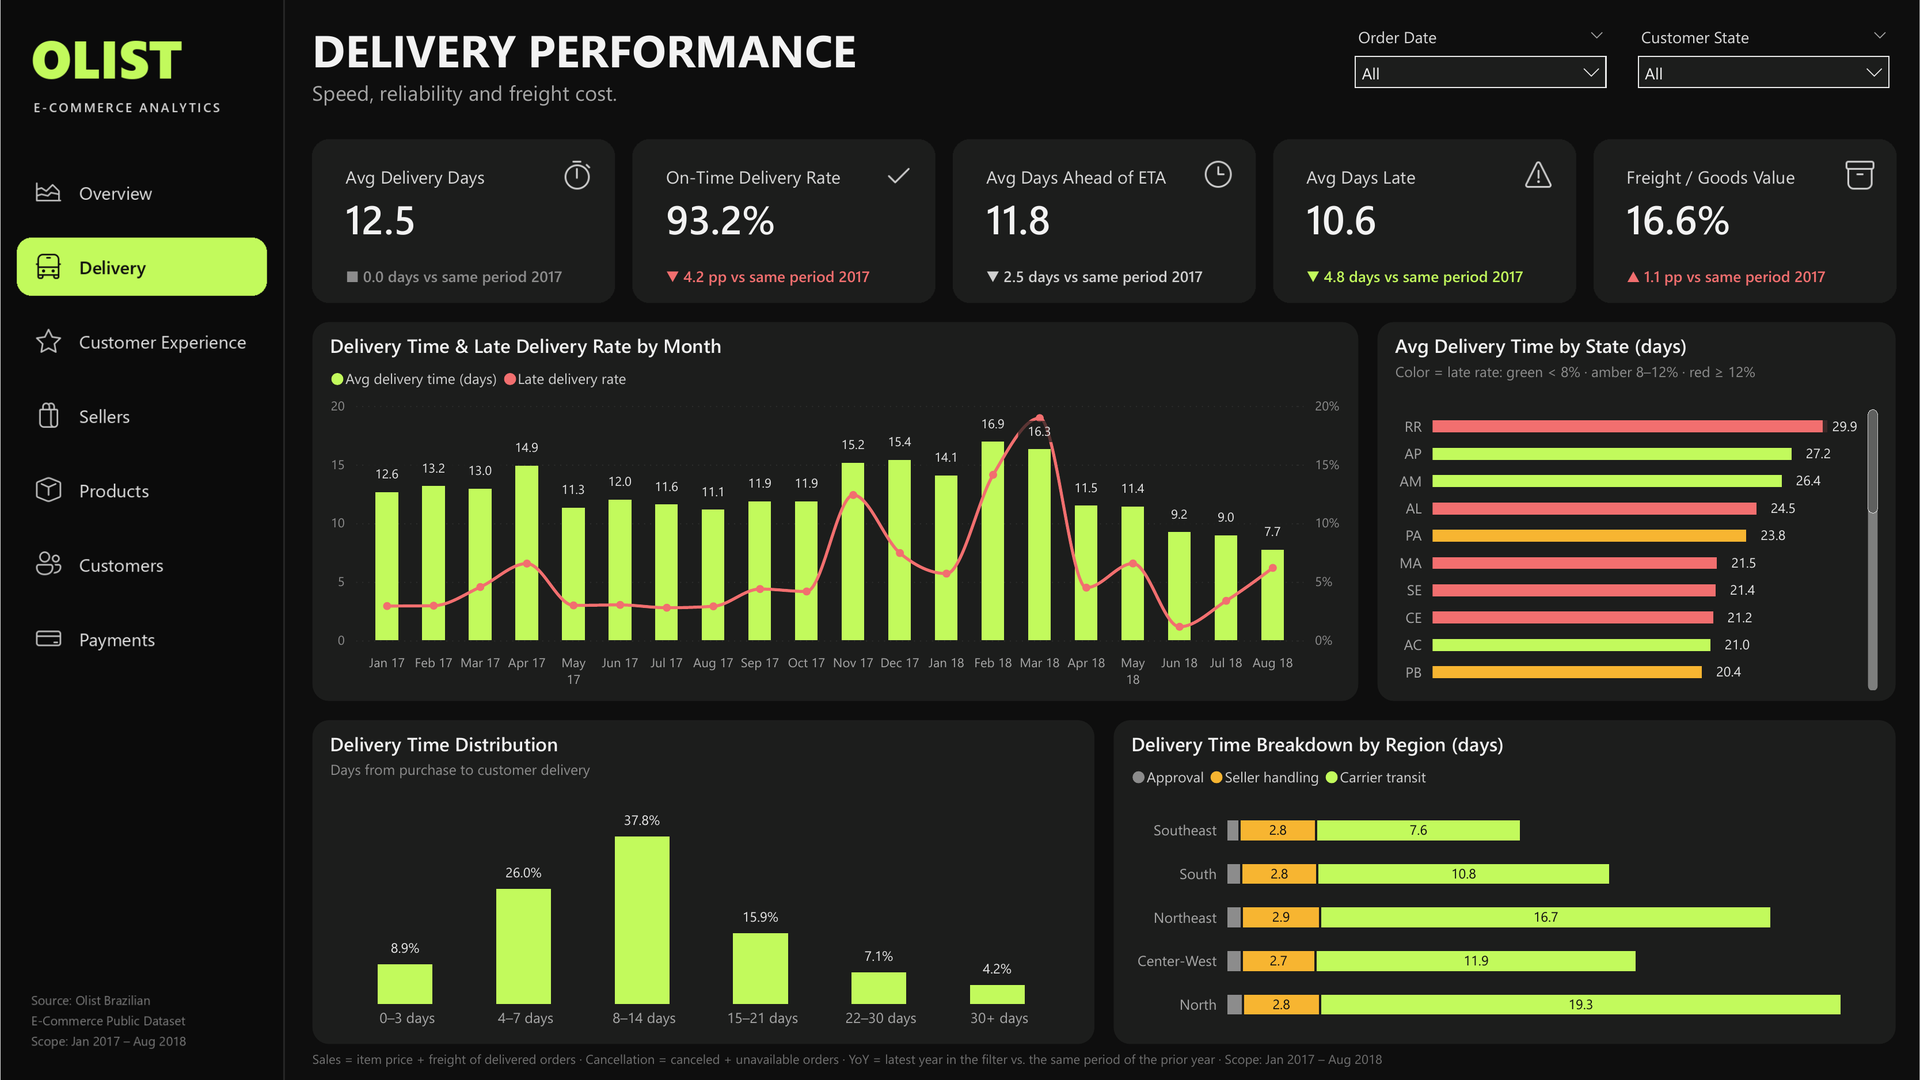

The page's visual inventory and layout, read from the dashboard file:
{"tool":"powerbi","page":{"name":"Delivery","canvas":[1600,900],"ordinal":1},"visuals":[{"type":"textbox","box":[260,16,860,90],"z":0},{"type":"textbox","box":[260,874,1320,22],"z":1000},{"type":"cardVisual","fields":{"Data":["_Measures.Avg Delivery Days"]},"box":[276,128,188,84],"z":2000},{"type":"cardVisual","fields":{"Data":["_Measures.On-Time Delivery Rate"]},"box":[543,128,188,84],"z":3000},{"type":"cardVisual","fields":{"Data":["_Measures.Avg Days Ahead of ETA"]},"box":[810,128,188,84],"z":4000},{"type":"cardVisual","fields":{"Data":["_Measures.Avg Days Late"]},"box":[1077,128,188,84],"z":5000},{"type":"cardVisual","fields":{"Data":["_Measures.Freight-to-Value Ratio"]},"box":[1344,128,188,84],"z":6000},{"type":"cardVisual","fields":{"Data":["_Measures.Avg Delivery Days Δ text"]},"box":[276,214,228,28],"z":7000},{"type":"cardVisual","fields":{"Data":["_Measures.On-Time Delivery Rate Δ text"]},"box":[543,214,228,28],"z":8000},{"type":"cardVisual","fields":{"Data":["_Measures.Avg Days Ahead of ETA Δ text"]},"box":[810,214,228,28],"z":9000},{"type":"cardVisual","fields":{"Data":["_Measures.Avg Days Late Δ text"]},"box":[1077,214,228,28],"z":10000},{"type":"cardVisual","fields":{"Data":["_Measures.Freight-to-Value Ratio Δ text"]},"box":[1344,214,228,28],"z":11000},{"type":"lineStackedColumnComboChart","title":"Delivery Time & Late Delivery Rate by Month","fields":{"Category":["Date.YearMonth"],"Y":["_Measures.Avg Delivery Days"],"Y2":["_Measures.Late Delivery Rate"]},"box":[260,268,872,316],"z":12000},{"type":"clusteredBarChart","title":"Avg Delivery Time by State (days)","fields":{"Category":["States.state"],"Y":["_Measures.Avg Delivery Days"]},"box":[1148,268,432,316],"z":13000},{"type":"clusteredColumnChart","title":"Delivery Time Distribution","fields":{"Category":["Orders.delivery_bucket"],"Y":["_Measures.Order Share (Delivery Time)"]},"box":[260,600,652,270],"z":14000},{"type":"barChart","title":"Delivery Time Breakdown by Region (days)","fields":{"Category":["States.region"],"Y":["_Measures.Avg Approval Days","_Measures.Avg Seller Handling Days","_Measures.Avg Carrier Transit Days"]},"box":[928,600,652,270],"z":15000},{"type":"actionButton","box":[14,136,208,48],"z":16000},{"type":"actionButton","box":[14,198,208,48],"z":17000},{"type":"actionButton","box":[14,260,208,48],"z":18000},{"type":"actionButton","box":[14,322,208,48],"z":19000},{"type":"actionButton","box":[14,384,208,48],"z":20000},{"type":"actionButton","box":[14,446,208,48],"z":21000},{"type":"actionButton","box":[14,508,208,48],"z":22000},{"type":"slicer","fields":{"Values":["Date.Year","Date.Month"]},"box":[1124,22,220,70],"z":23000},{"type":"slicer","fields":{"Values":["States.state_name"]},"box":[1360,22,220,70],"z":24000}]}

Visuals, with their boxes on the page's 1600x900 design canvas (x1, y1, x2, y2). These are canvas units, not pixel positions in the 1920x1080 screenshot, which may show the page scaled, cropped or inside an application window:
textbox: left=260, top=16, right=1120, bottom=106
textbox: left=260, top=874, right=1580, bottom=896
cardVisual - _Measures.Avg Delivery Days: left=276, top=128, right=464, bottom=212
cardVisual - _Measures.On-Time Delivery Rate: left=543, top=128, right=731, bottom=212
cardVisual - _Measures.Avg Days Ahead of ETA: left=810, top=128, right=998, bottom=212
cardVisual - _Measures.Avg Days Late: left=1077, top=128, right=1265, bottom=212
cardVisual - _Measures.Freight-to-Value Ratio: left=1344, top=128, right=1532, bottom=212
cardVisual - _Measures.Avg Delivery Days Δ text: left=276, top=214, right=504, bottom=242
cardVisual - _Measures.On-Time Delivery Rate Δ text: left=543, top=214, right=771, bottom=242
cardVisual - _Measures.Avg Days Ahead of ETA Δ text: left=810, top=214, right=1038, bottom=242
cardVisual - _Measures.Avg Days Late Δ text: left=1077, top=214, right=1305, bottom=242
cardVisual - _Measures.Freight-to-Value Ratio Δ text: left=1344, top=214, right=1572, bottom=242
"Delivery Time & Late Delivery Rate by Month" lineStackedColumnComboChart: left=260, top=268, right=1132, bottom=584
"Avg Delivery Time by State (days)" clusteredBarChart: left=1148, top=268, right=1580, bottom=584
"Delivery Time Distribution" clusteredColumnChart: left=260, top=600, right=912, bottom=870
"Delivery Time Breakdown by Region (days)" barChart: left=928, top=600, right=1580, bottom=870
actionButton: left=14, top=136, right=222, bottom=184
actionButton: left=14, top=198, right=222, bottom=246
actionButton: left=14, top=260, right=222, bottom=308
actionButton: left=14, top=322, right=222, bottom=370
actionButton: left=14, top=384, right=222, bottom=432
actionButton: left=14, top=446, right=222, bottom=494
actionButton: left=14, top=508, right=222, bottom=556
slicer - Date.Year x Date.Month: left=1124, top=22, right=1344, bottom=92
slicer - States.state_name: left=1360, top=22, right=1580, bottom=92
